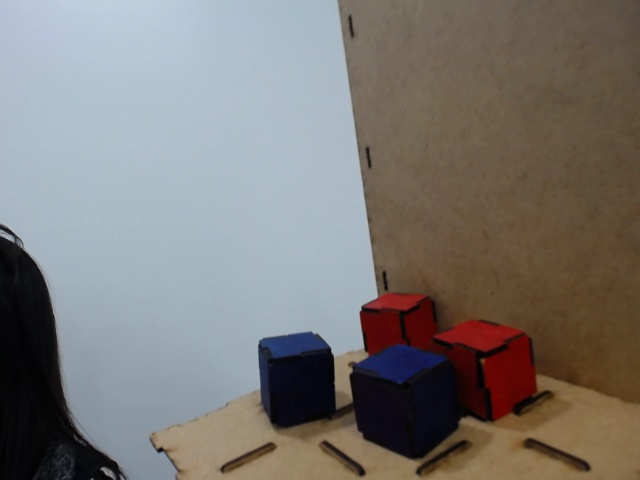blue: (349, 337, 467, 461), (258, 329, 338, 427)
red: (435, 317, 536, 419), (360, 294, 433, 353)
